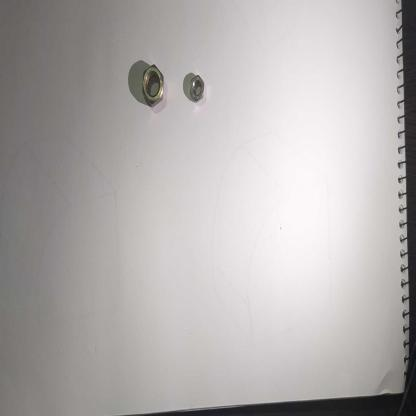NUTS: (141, 57, 165, 110), (187, 70, 206, 104)
